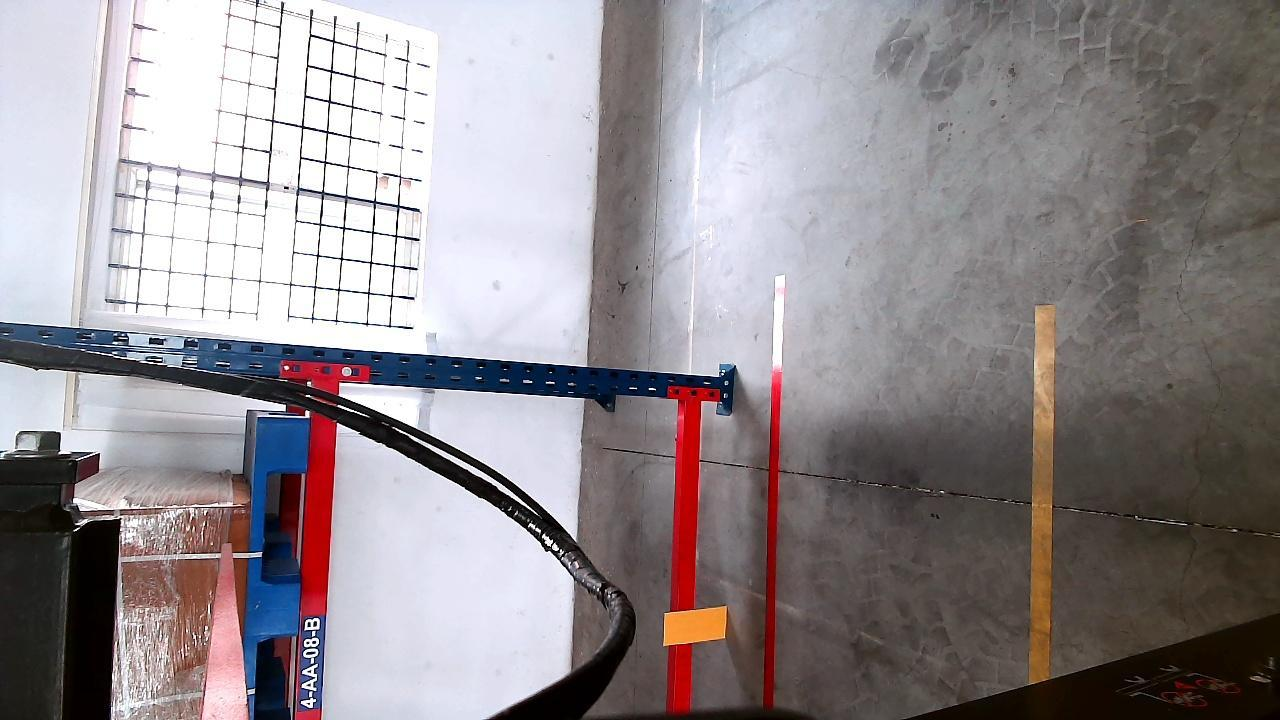red_line: (760, 270, 786, 704)
yellow_line: (1028, 299, 1057, 687)
